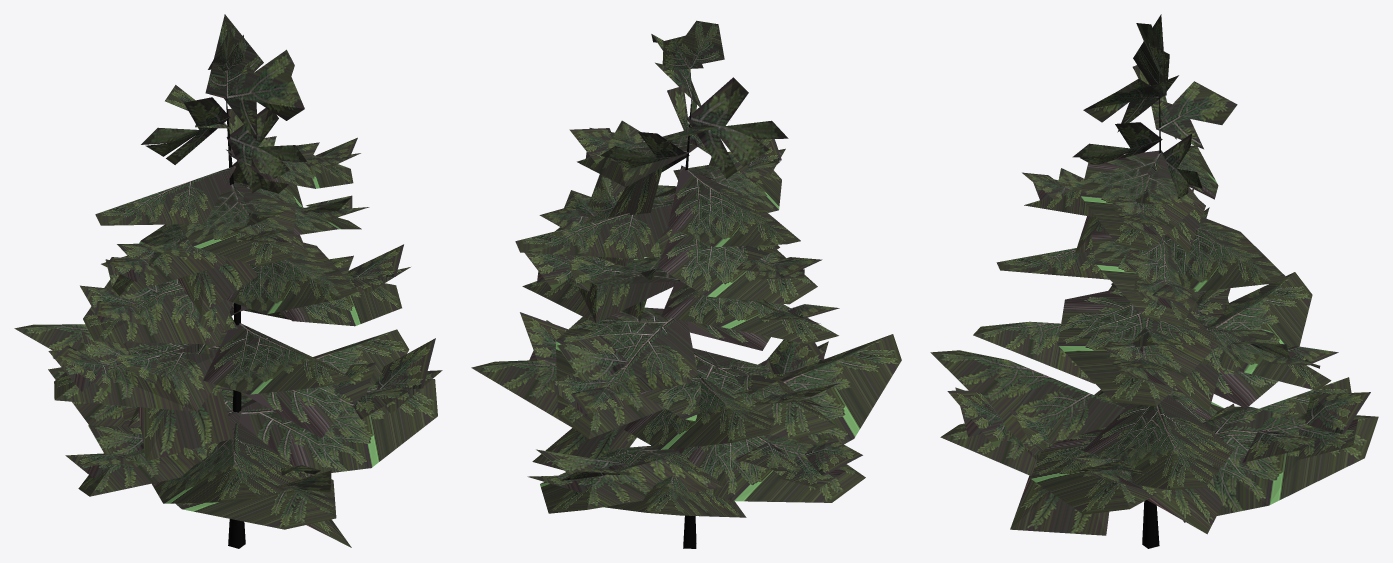
File: Fir_01.FBX
3 views of the same model, side by side, from view 1: azimuth 30°, elevation 25°; view 2: azimuth 150°, elevation 25°; view 3: azimuth 270°, elevation 25° (orthographic).
Visible parts, largest first — view 1: Fir_01; view 2: Fir_01; view 3: Fir_01.
Boxes of the visible parts, <box> form: Fir_01: <box>14,14,442,548</box>; Fir_01: <box>471,20,901,548</box>; Fir_01: <box>930,14,1378,548</box>.
Size of the model in its own units: 384 by 549 by 423.
